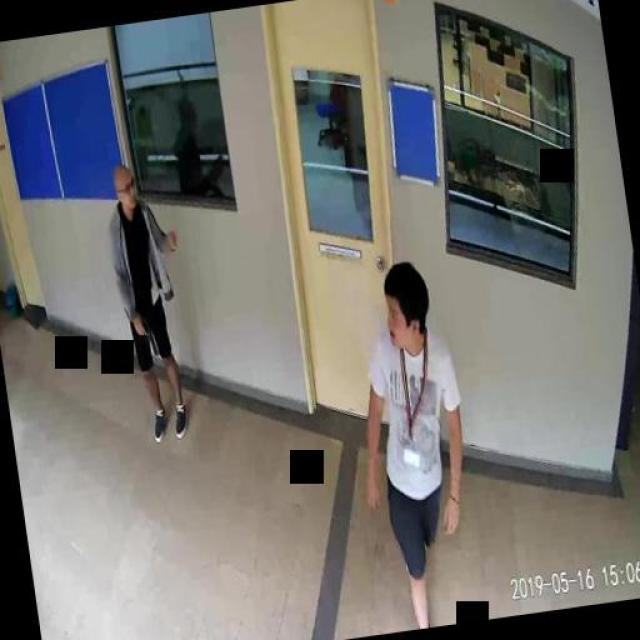gun: (130, 312, 158, 358)
